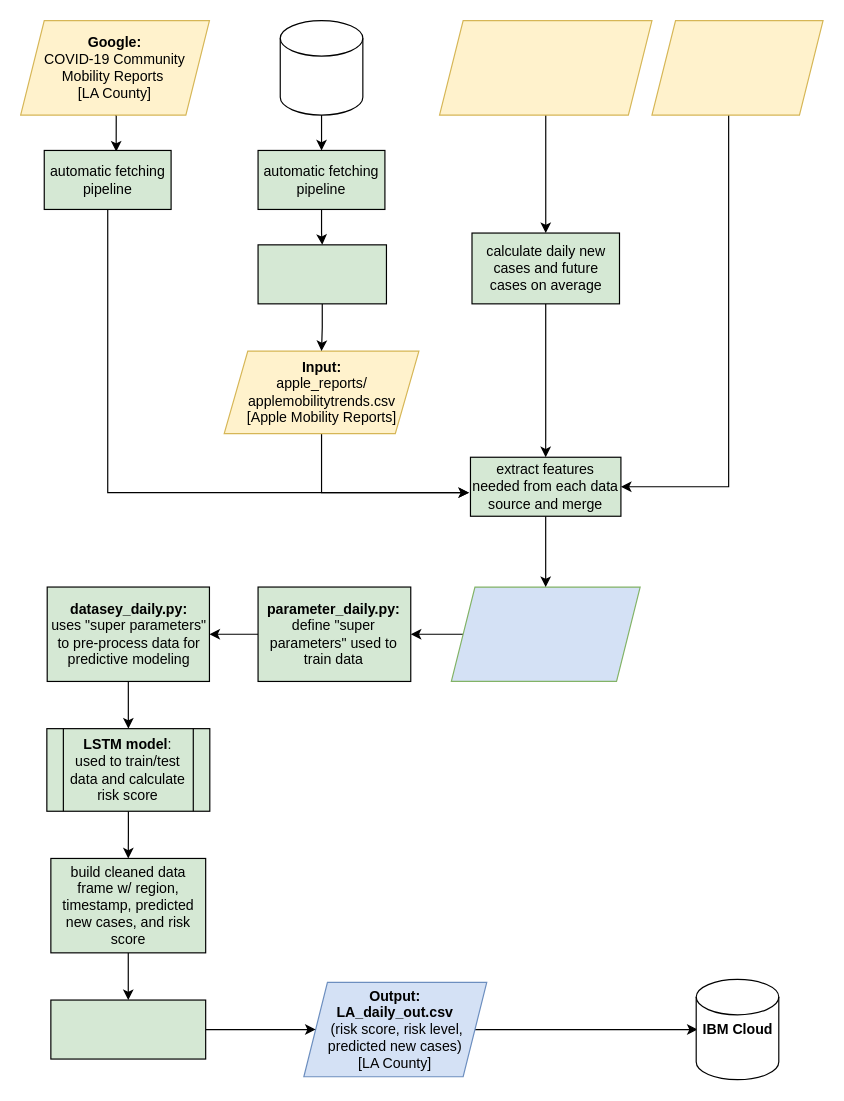
Image size: 844x1101. Some labels were removed from this diagram. The centre of each missing label's shape, as x and y in pixels:
"Apple API" goes at (321,67).
"build cleaned apple report data frame" goes at (321,274).
"calculate risk level" goes at (128,1029).
"GitHub Repo: input/econ_level.csv [LA County population]" goes at (737,67).
"GitHub Repo: input/latimes-place-total.csv [LA County population]" goes at (545,67).
"Output: LA_daily.csv (daily/predicted cases) [LA County]" goes at (545,633).
